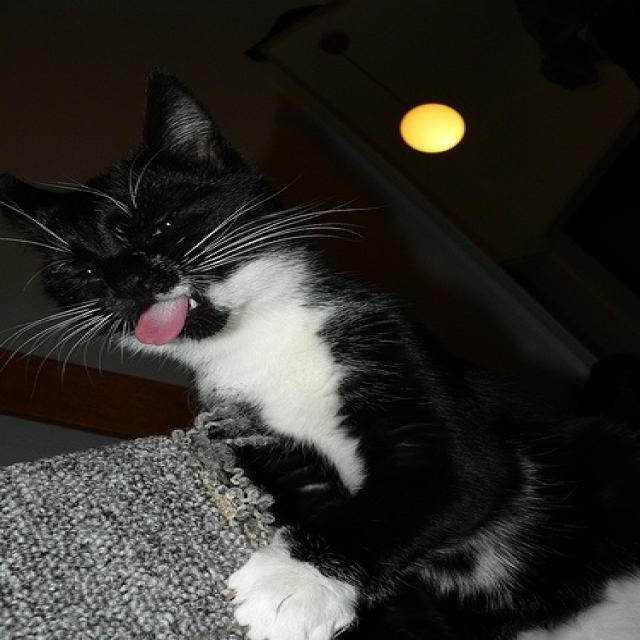cat: (2, 74, 638, 639)
